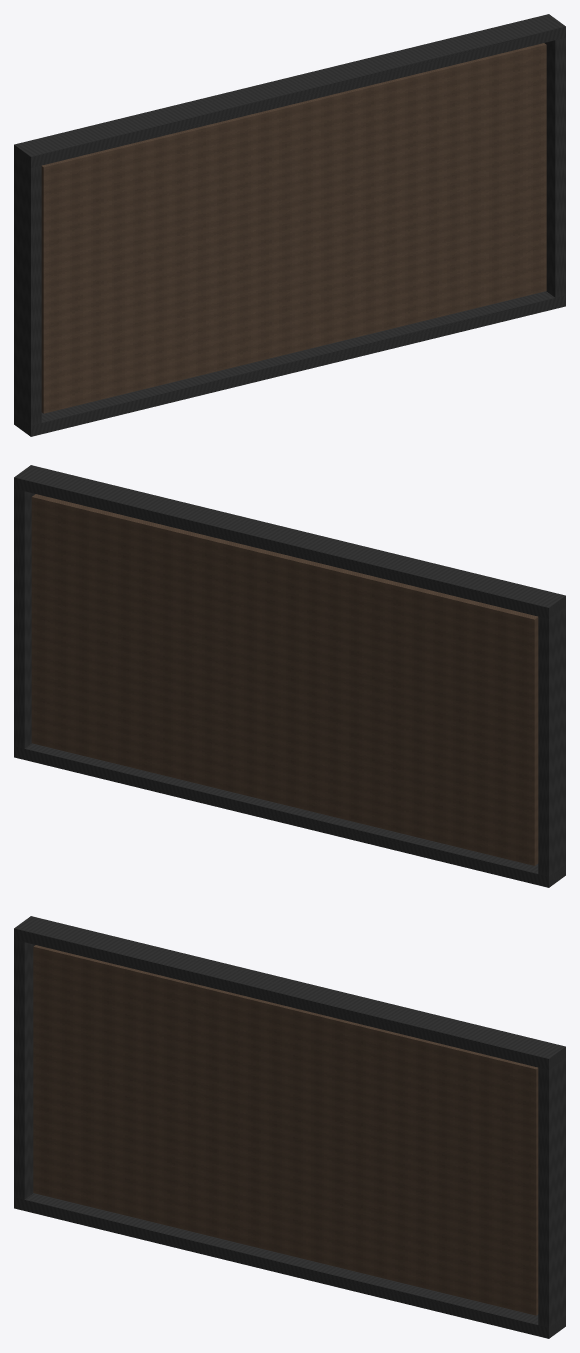
The picture shows the model from 3 angles, top to bottom: view 1: azimuth 30°, elevation 25°; view 2: azimuth 150°, elevation 25°; view 3: azimuth 330°, elevation 25°; orthographic projection.
Visible parts, largest first — view 1: 5 canvas, 1 frame_top, 2 frame_bottom, 3 frame_left, 4 frame_right; view 2: 5 canvas, 1 frame_top, 2 frame_bottom, 3 frame_left, 4 frame_right; view 3: 5 canvas, 1 frame_top, 2 frame_bottom, 4 frame_right, 3 frame_left.
Part boxes in pixels (x1=…): 5 canvas: x1=41, y1=43, x2=546, y2=413; 1 frame_top: x1=14, y1=14, x2=565, y2=167; 2 frame_bottom: x1=14, y1=291, x2=565, y2=436; 3 frame_left: x1=14, y1=156, x2=41, y2=425; 4 frame_right: x1=544, y1=37, x2=565, y2=297; 5 canvas: x1=31, y1=494, x2=538, y2=865; 1 frame_top: x1=14, y1=465, x2=565, y2=618; 2 frame_bottom: x1=14, y1=743, x2=565, y2=887; 3 frame_left: x1=538, y1=607, x2=565, y2=876; 4 frame_right: x1=14, y1=488, x2=35, y2=748; 5 canvas: x1=33, y1=945, x2=538, y2=1315; 1 frame_top: x1=14, y1=916, x2=565, y2=1069; 2 frame_bottom: x1=14, y1=1193, x2=565, y2=1338; 4 frame_right: x1=538, y1=1058, x2=565, y2=1327; 3 frame_left: x1=14, y1=939, x2=35, y2=1199.
Bounding box in the file's own units: 2 × 1 × 0.11.
Materials: 2 (2 with a texture image).
